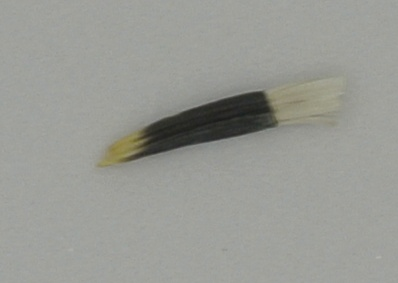เมล็ดดีติดกัน: (95, 74, 347, 170)
